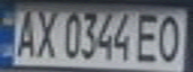0: (60, 7, 81, 60)
3: (78, 8, 100, 60)
4: (112, 9, 136, 62), (97, 8, 118, 61)
A: (9, 6, 39, 58)
E: (133, 9, 163, 63)
O: (151, 11, 187, 64)
X: (33, 6, 60, 60)
